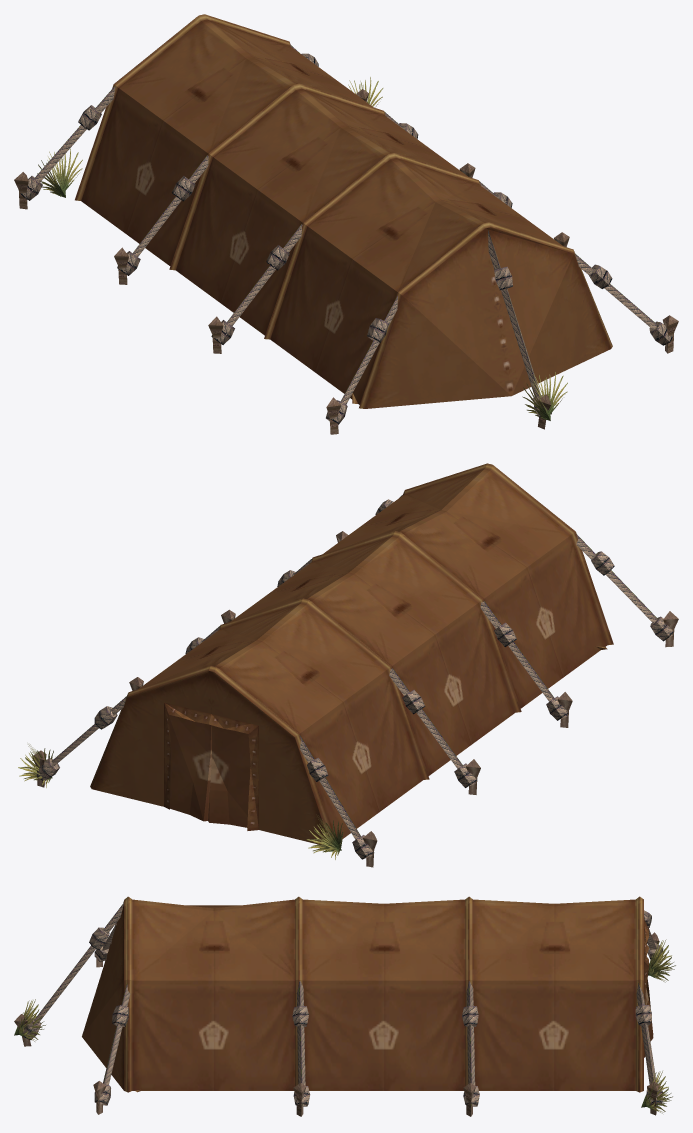
Rendered from C1SMTUNTENTHQH.obj.
3 renders of one model, top to bottom at view 1: azimuth 30°, elevation 25°; view 2: azimuth 150°, elevation 25°; view 3: azimuth 270°, elevation 25°, orthographic. The views are drawn at different scales.
Parts seen in each view (by area): view 1: Node 2; view 2: Node 2; view 3: Node 2.
Part boxes in pixels (bbox=[...]): Node 2: bbox=[14, 14, 678, 434]; Node 2: bbox=[18, 463, 678, 867]; Node 2: bbox=[14, 896, 675, 1116].
Bounding box in the file's own units: 9.13 × 3.84 × 15.6.
7 materials, 7 textured.
